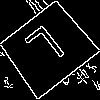L: (23, 23, 73, 77)
